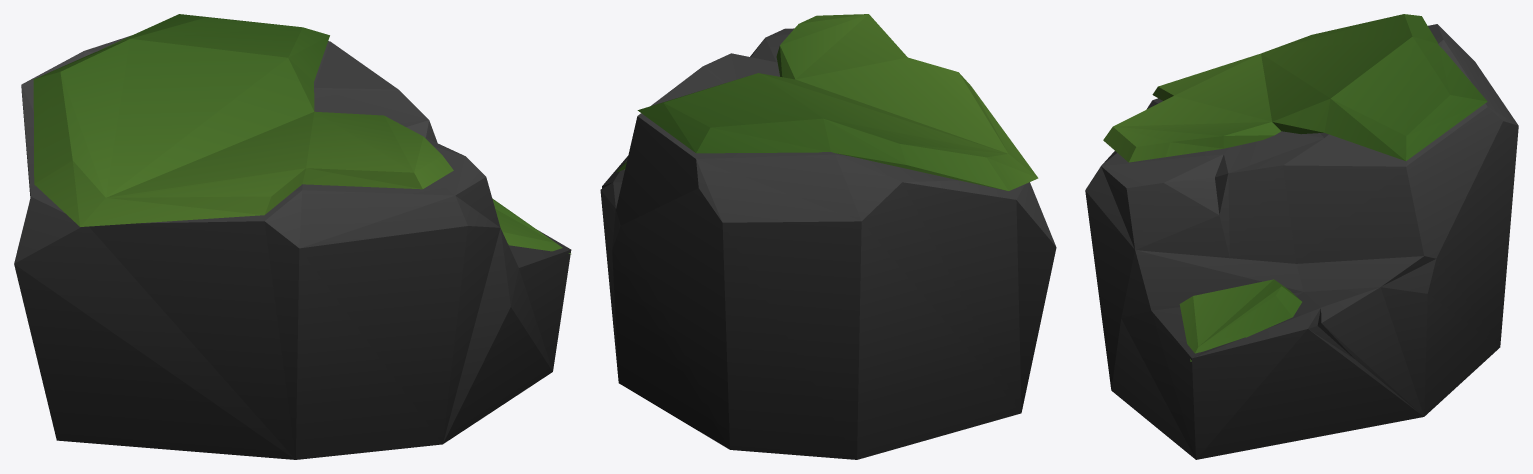
File: small_rock21.fbx
The picture shows the model from 3 angles, left to right: view 1: azimuth 30°, elevation 25°; view 2: azimuth 150°, elevation 25°; view 3: azimuth 270°, elevation 25°; orthographic projection. The views are drawn at different scales.
Visible parts, largest first — view 1: RBg2; view 2: RBg2; view 3: RBg2.
Part boxes in pixels (bbox=[...]): RBg2: bbox=[14, 14, 571, 459]; RBg2: bbox=[600, 14, 1056, 459]; RBg2: bbox=[1085, 14, 1518, 459].
Size of the model in its own units: 252 by 155 by 210.
